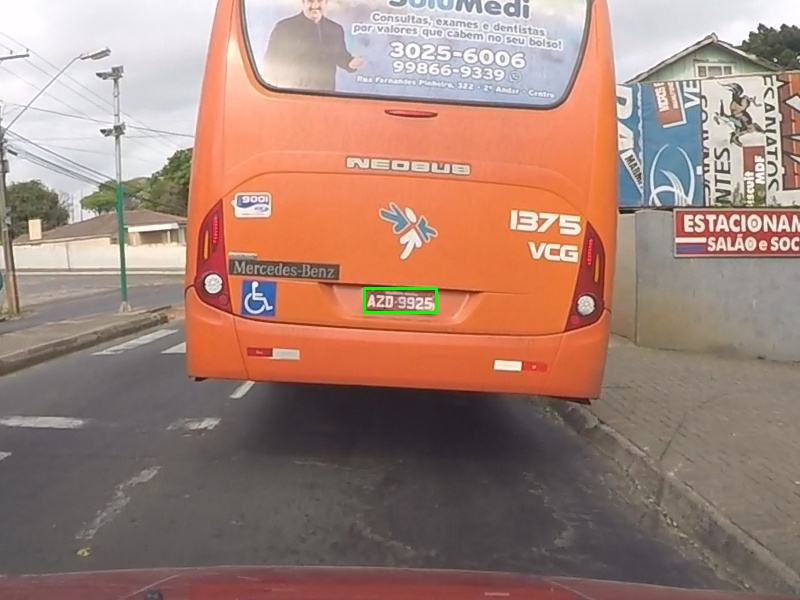placa: (364, 288, 436, 312)
